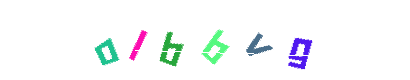B: (136, 0, 216, 80), (159, 0, 239, 80)
G: (260, 0, 340, 80)
L: (130, 0, 210, 80)
O: (98, 0, 178, 80)
V: (165, 0, 245, 80)
